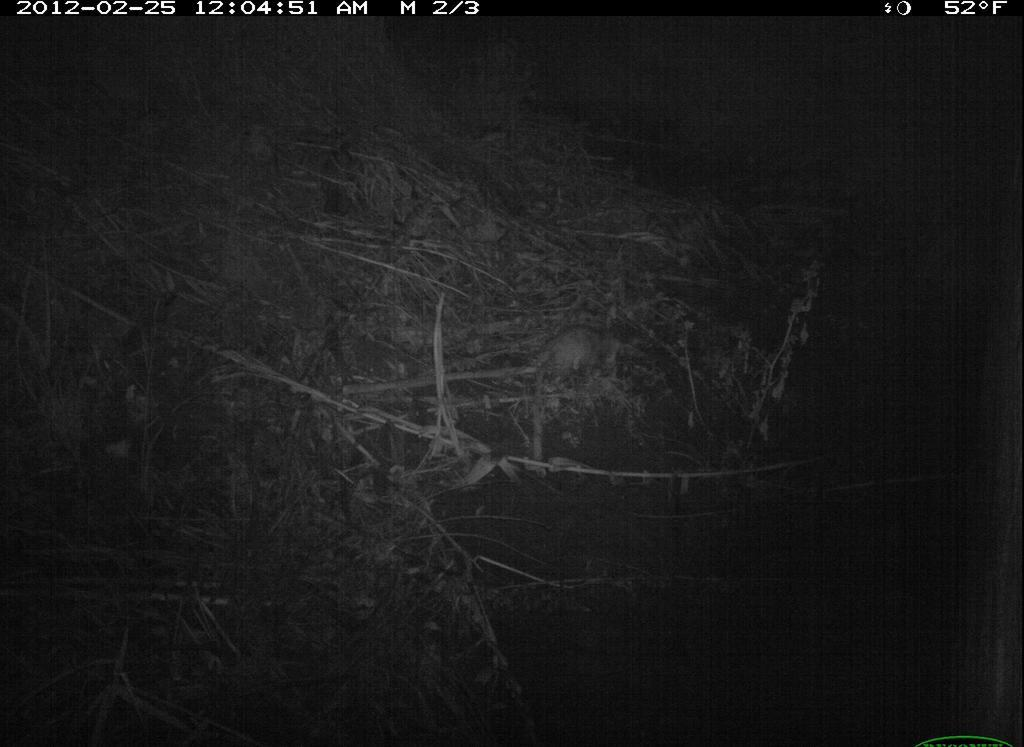opossum: (521, 319, 633, 428)
